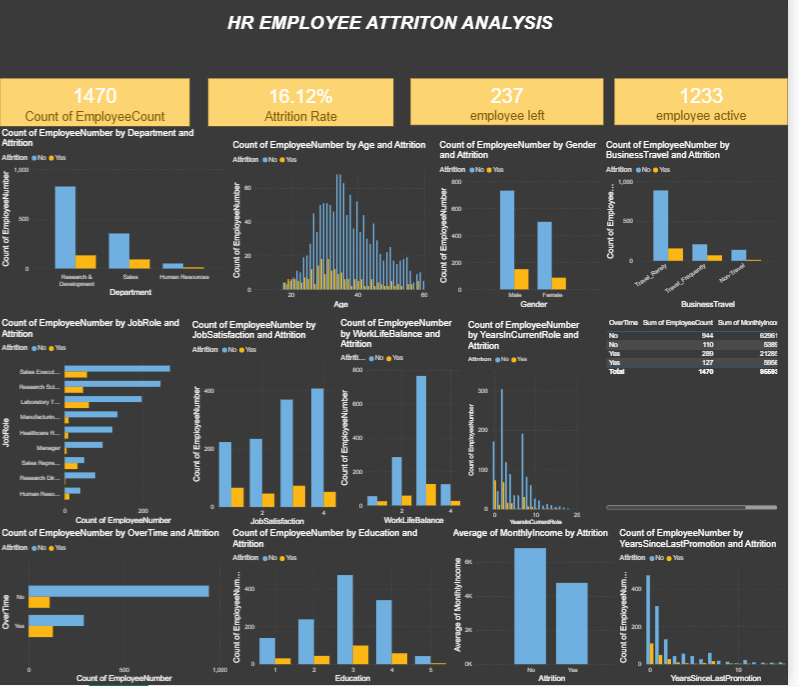

The dashboard page shown, as its layout file describes it:
{"tool":"powerbi","page":{"name":"Page 1","canvas":[1600,1400],"ordinal":0},"visuals":[{"type":"card","fields":{"Values":["HR-Employee-Attrition.employee active"]},"box":[1246.4,170.1,352.6,95.9],"z":2},{"type":"card","fields":{"Values":["CountNonNull(HR-Employee-Attrition.EmployeeCount)"]},"box":[0,170.1,386.6,99],"z":3},{"type":"card","fields":{"Values":["HR-Employee-Attrition.employee left"]},"box":[832,170.1,392.8,95.9],"z":4},{"type":"card","fields":{"Values":["HR-Employee-Attrition.Attrition Rate"]},"box":[423.7,170.1,377.3,99],"z":6},{"type":"clusteredColumnChart","fields":{"Category":["HR-Employee-Attrition.Department"],"Series":["HR-Employee-Attrition.Attrition"],"Y":["CountNonNull(HR-Employee-Attrition.EmployeeNumber)"]},"box":[0,269.1,467,346.4],"z":7},{"type":"clusteredColumnChart","fields":{"Category":["HR-Employee-Attrition.Age"],"Series":["HR-Employee-Attrition.Attrition"],"Y":["CountNonNull(HR-Employee-Attrition.EmployeeNumber)"]},"box":[467,293.8,405.2,346.4],"z":8},{"type":"clusteredColumnChart","fields":{"Category":["HR-Employee-Attrition.Gender"],"Series":["HR-Employee-Attrition.Attrition"],"Y":["CountNonNull(HR-Employee-Attrition.EmployeeNumber)"]},"box":[887.6,293.8,337.1,346.4],"z":9},{"type":"clusteredBarChart","fields":{"Category":["HR-Employee-Attrition.JobRole"],"Series":["HR-Employee-Attrition.Attrition"],"Y":["CountNonNull(HR-Employee-Attrition.EmployeeNumber)"]},"box":[0,656.5,386,422.4],"z":10},{"type":"clusteredBarChart","fields":{"Category":["HR-Employee-Attrition.OverTime"],"Series":["HR-Employee-Attrition.Attrition"],"Y":["CountNonNull(HR-Employee-Attrition.EmployeeNumber)"]},"box":[0,1082.5,467,318.6],"z":11},{"type":"clusteredColumnChart","fields":{"Category":["HR-Employee-Attrition.BusinessTravel"],"Series":["HR-Employee-Attrition.Attrition"],"Y":["CountNonNull(HR-Employee-Attrition.EmployeeNumber)"]},"box":[1224.8,293.8,358.8,346.4],"z":12},{"type":"clusteredColumnChart","fields":{"Category":["HR-Employee-Attrition.JobSatisfaction"],"Series":["HR-Employee-Attrition.Attrition"],"Y":["CountNonNull(HR-Employee-Attrition.EmployeeNumber)"]},"box":[386,659.5,300.9,422.4],"z":13},{"type":"clusteredColumnChart","fields":{"Category":["HR-Employee-Attrition.WorkLifeBalance"],"Series":["HR-Employee-Attrition.Attrition"],"Y":["CountNonNull(HR-Employee-Attrition.EmployeeNumber)"]},"box":[686.8,656.5,252.2,422.4],"z":14},{"type":"clusteredColumnChart","fields":{"Category":["HR-Employee-Attrition.Education"],"Series":["HR-Employee-Attrition.Attrition"],"Y":["CountNonNull(HR-Employee-Attrition.EmployeeNumber)"]},"box":[467,1082.5,442.3,318.6],"z":15},{"type":"clusteredColumnChart","fields":{"Category":["HR-Employee-Attrition.Attrition"],"Y":["Avg(HR-Employee-Attrition.MonthlyIncome)"]},"box":[915.5,1082.5,361.9,318.6],"z":16},{"type":"clusteredColumnChart","fields":{"Category":["HR-Employee-Attrition.YearsInCurrentRole"],"Series":["HR-Employee-Attrition.Attrition"],"Y":["CountNonNull(HR-Employee-Attrition.EmployeeNumber)"]},"box":[945.2,659.5,237.1,422.4],"z":17},{"type":"clusteredColumnChart","fields":{"Category":["HR-Employee-Attrition.YearsSinceLastPromotion"],"Series":["HR-Employee-Attrition.Attrition"],"Y":["CountNonNull(HR-Employee-Attrition.EmployeeNumber)"]},"box":[1252.6,1082.5,346.4,318.6],"z":18},{"type":"textbox","box":[0,0,1583.5,126.8],"z":19},{"type":"tableEx","fields":{"Values":["HR-Employee-Attrition.OverTime","Sum(HR-Employee-Attrition.EmployeeCount)","Sum(HR-Employee-Attrition.MonthlyIncome)","HR-Employee-Attrition.Attrition"]},"box":[1225,653.6,357.1,396.4],"z":20}]}

Visuals, with their boxes in screenshot pixels (x1, y1, x2, y2), scaled from the page's 1600x1400 canvas onto the 799x686 screenshot:
card - HR-Employee-Attrition.employee active: x1=622 y1=83 x2=798 y2=130
card - CountNonNull(HR-Employee-Attrition.EmployeeCount): x1=0 y1=83 x2=193 y2=132
card - HR-Employee-Attrition.employee left: x1=415 y1=83 x2=612 y2=130
card - HR-Employee-Attrition.Attrition Rate: x1=212 y1=83 x2=400 y2=132
clusteredColumnChart - HR-Employee-Attrition.Department x HR-Employee-Attrition.Attrition: x1=0 y1=132 x2=233 y2=302
clusteredColumnChart - HR-Employee-Attrition.Age x HR-Employee-Attrition.Attrition: x1=233 y1=144 x2=436 y2=314
clusteredColumnChart - HR-Employee-Attrition.Gender x HR-Employee-Attrition.Attrition: x1=443 y1=144 x2=612 y2=314
clusteredBarChart - HR-Employee-Attrition.JobRole x HR-Employee-Attrition.Attrition: x1=0 y1=322 x2=193 y2=529
clusteredBarChart - HR-Employee-Attrition.OverTime x HR-Employee-Attrition.Attrition: x1=0 y1=530 x2=233 y2=685
clusteredColumnChart - HR-Employee-Attrition.BusinessTravel x HR-Employee-Attrition.Attrition: x1=612 y1=144 x2=791 y2=314
clusteredColumnChart - HR-Employee-Attrition.JobSatisfaction x HR-Employee-Attrition.Attrition: x1=193 y1=323 x2=343 y2=530
clusteredColumnChart - HR-Employee-Attrition.WorkLifeBalance x HR-Employee-Attrition.Attrition: x1=343 y1=322 x2=469 y2=529
clusteredColumnChart - HR-Employee-Attrition.Education x HR-Employee-Attrition.Attrition: x1=233 y1=530 x2=454 y2=685
clusteredColumnChart - HR-Employee-Attrition.Attrition x Avg(HR-Employee-Attrition.MonthlyIncome): x1=457 y1=530 x2=638 y2=685
clusteredColumnChart - HR-Employee-Attrition.YearsInCurrentRole x HR-Employee-Attrition.Attrition: x1=472 y1=323 x2=590 y2=530
clusteredColumnChart - HR-Employee-Attrition.YearsSinceLastPromotion x HR-Employee-Attrition.Attrition: x1=626 y1=530 x2=798 y2=685
textbox: x1=0 y1=0 x2=791 y2=62
tableEx - HR-Employee-Attrition.OverTime x Sum(HR-Employee-Attrition.EmployeeCount): x1=612 y1=320 x2=790 y2=514
